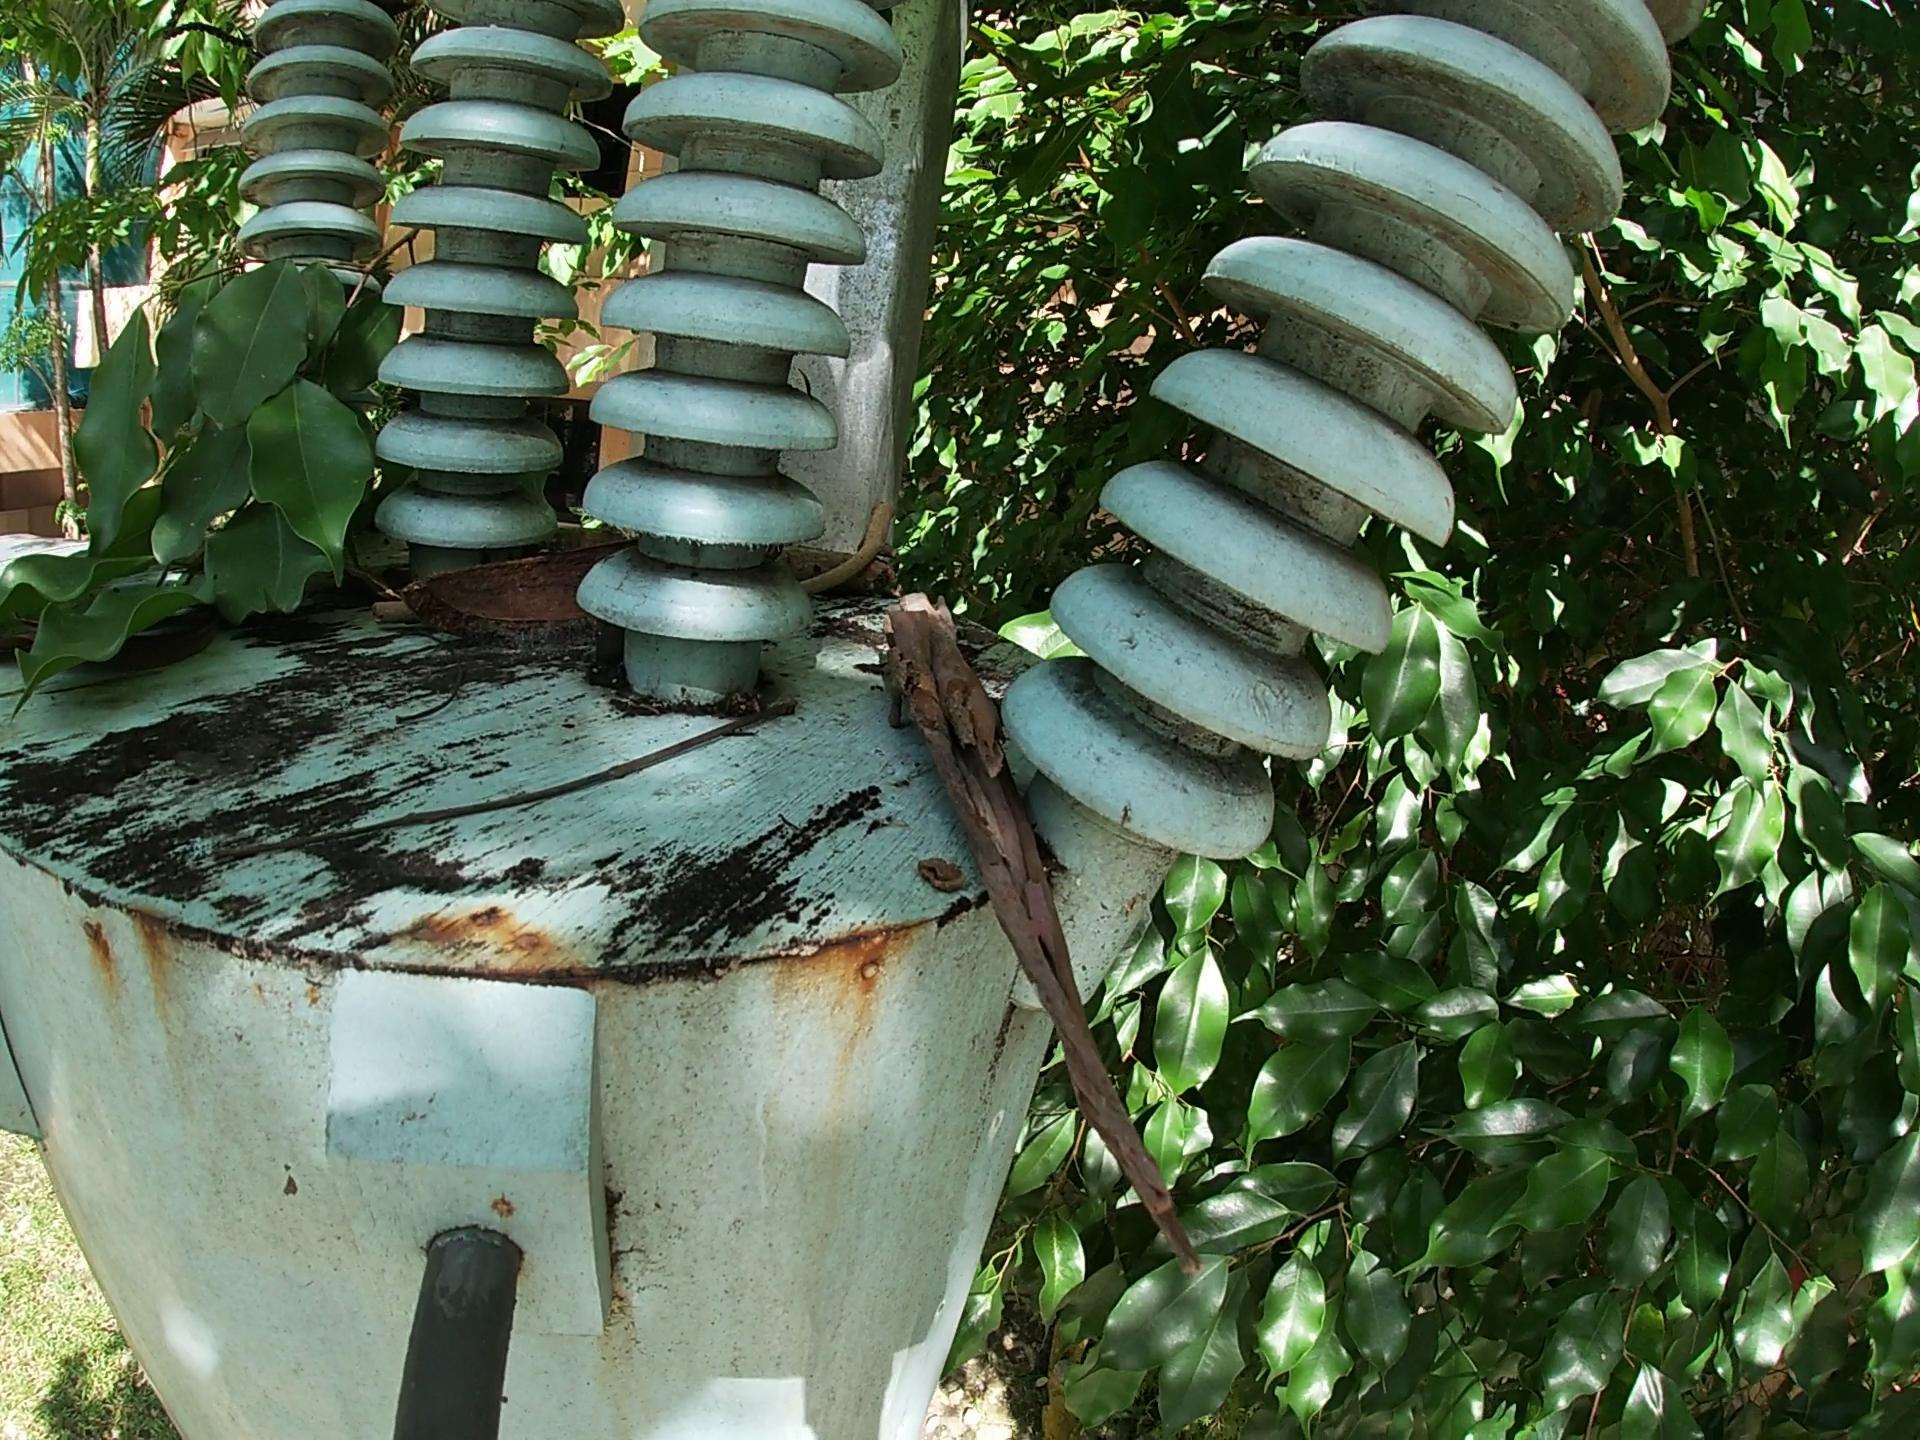branch with leaves: (2, 225, 426, 714)
mahogany fruit: (398, 551, 633, 655)
tree branch: (880, 576, 1222, 1305), (138, 685, 830, 871), (776, 504, 919, 604), (401, 617, 466, 740), (782, 543, 906, 579), (363, 593, 408, 628)
